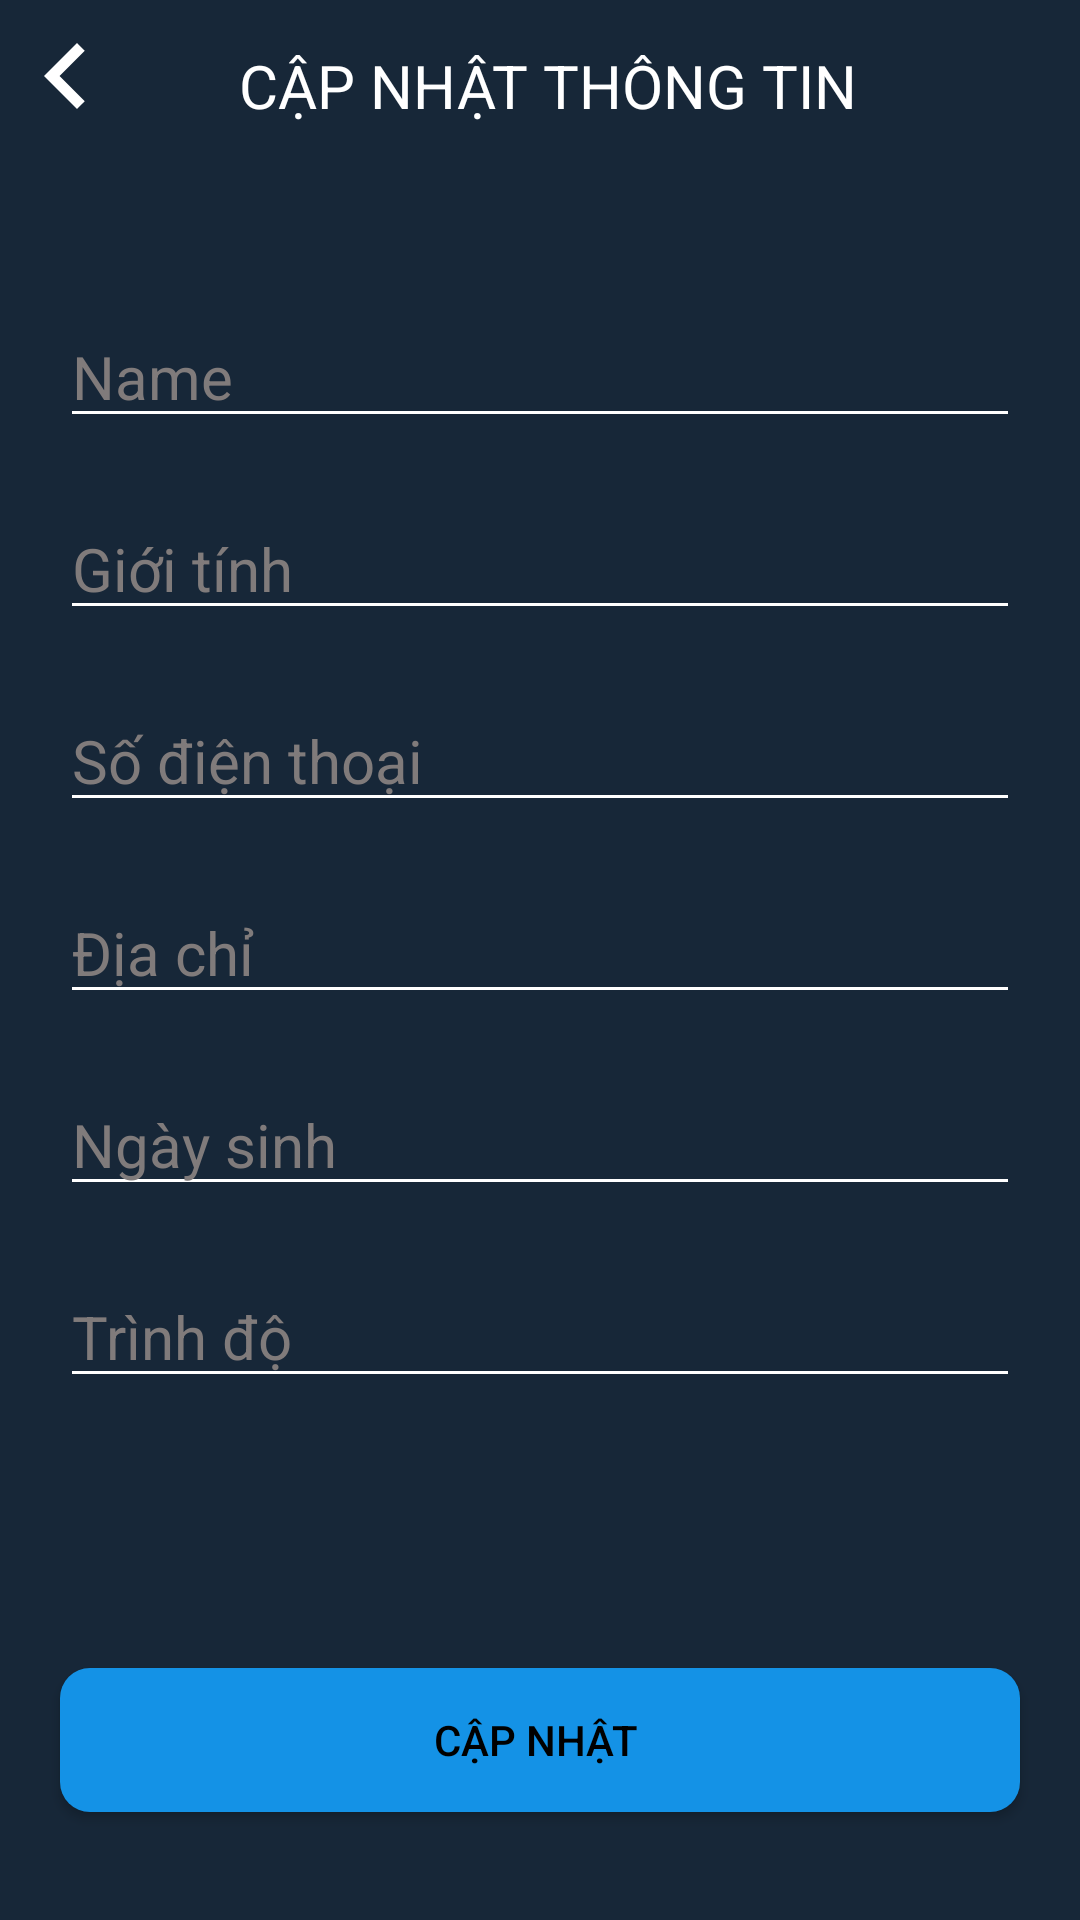

Icons on this 1080×1920 Android screen, each with the point to tap as (x,y):
keyboard arrow left: (64,76)
